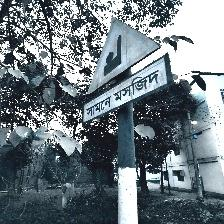Mosque in front: (83, 17, 172, 125)
